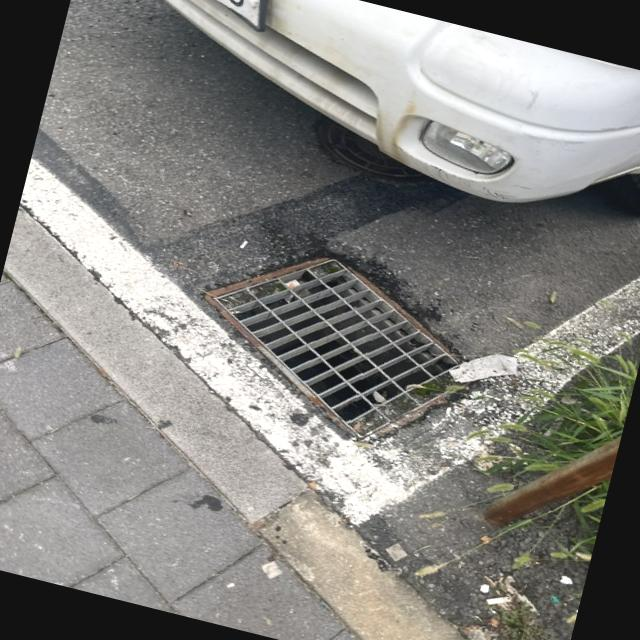drain_area: (231, 270, 456, 423)
drain_full: (213, 259, 472, 438)
